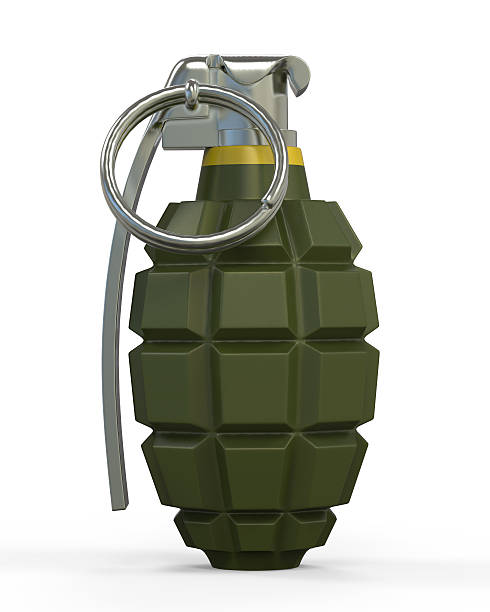e1: (89, 48, 385, 579)
